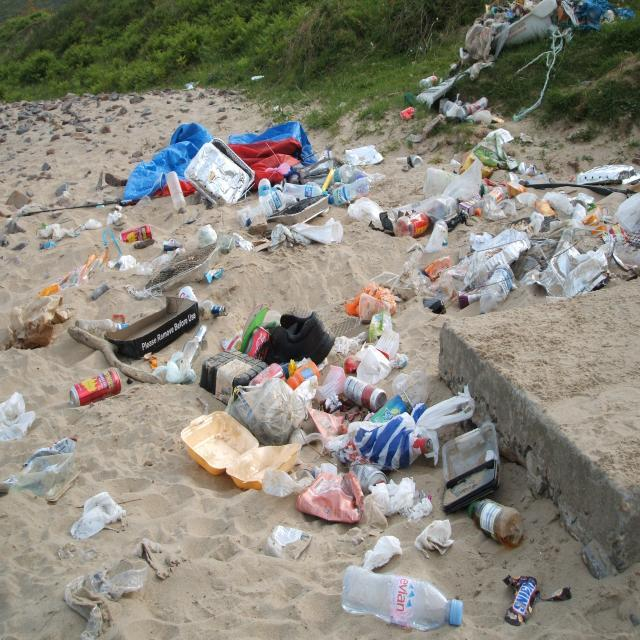plastic: (196, 266, 575, 622), (4, 268, 181, 622), (92, 108, 420, 253), (447, 139, 637, 257)
